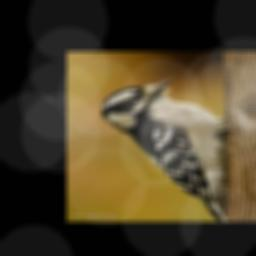Woodpecker: (99, 78, 236, 221)
